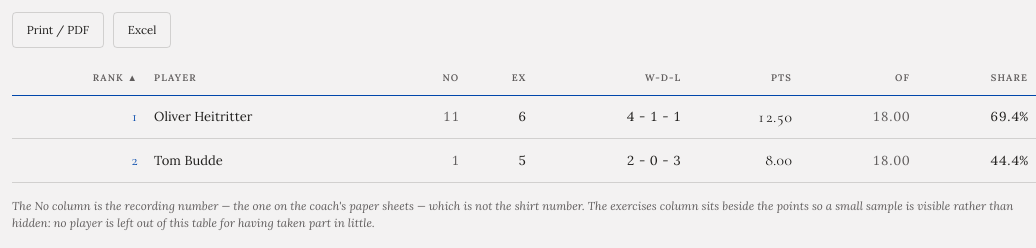
Test: resetting the sort › appears for rank reversed too, which is not the starting order
Step 1. Click the button "Rank ▲" → click(115, 78), box [93,71,138,86]
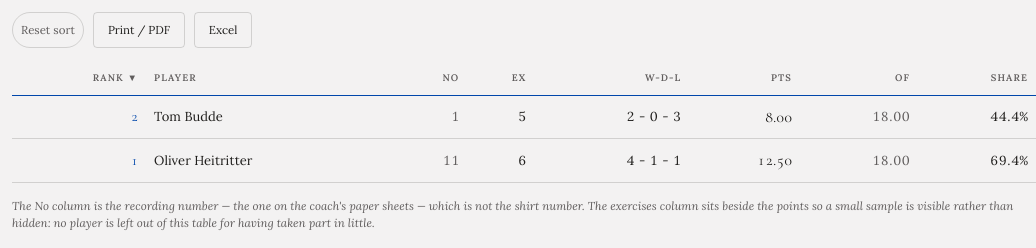
Now the button "Reset sort" is shown, box [12,12,84,48]
